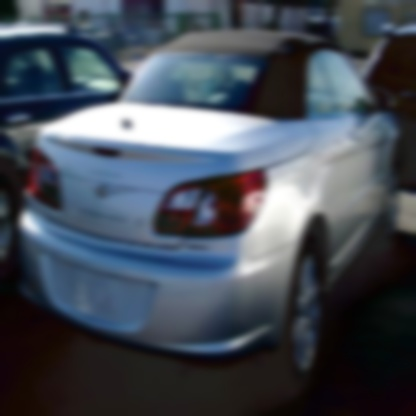Vehicle: (17, 28, 404, 396)
